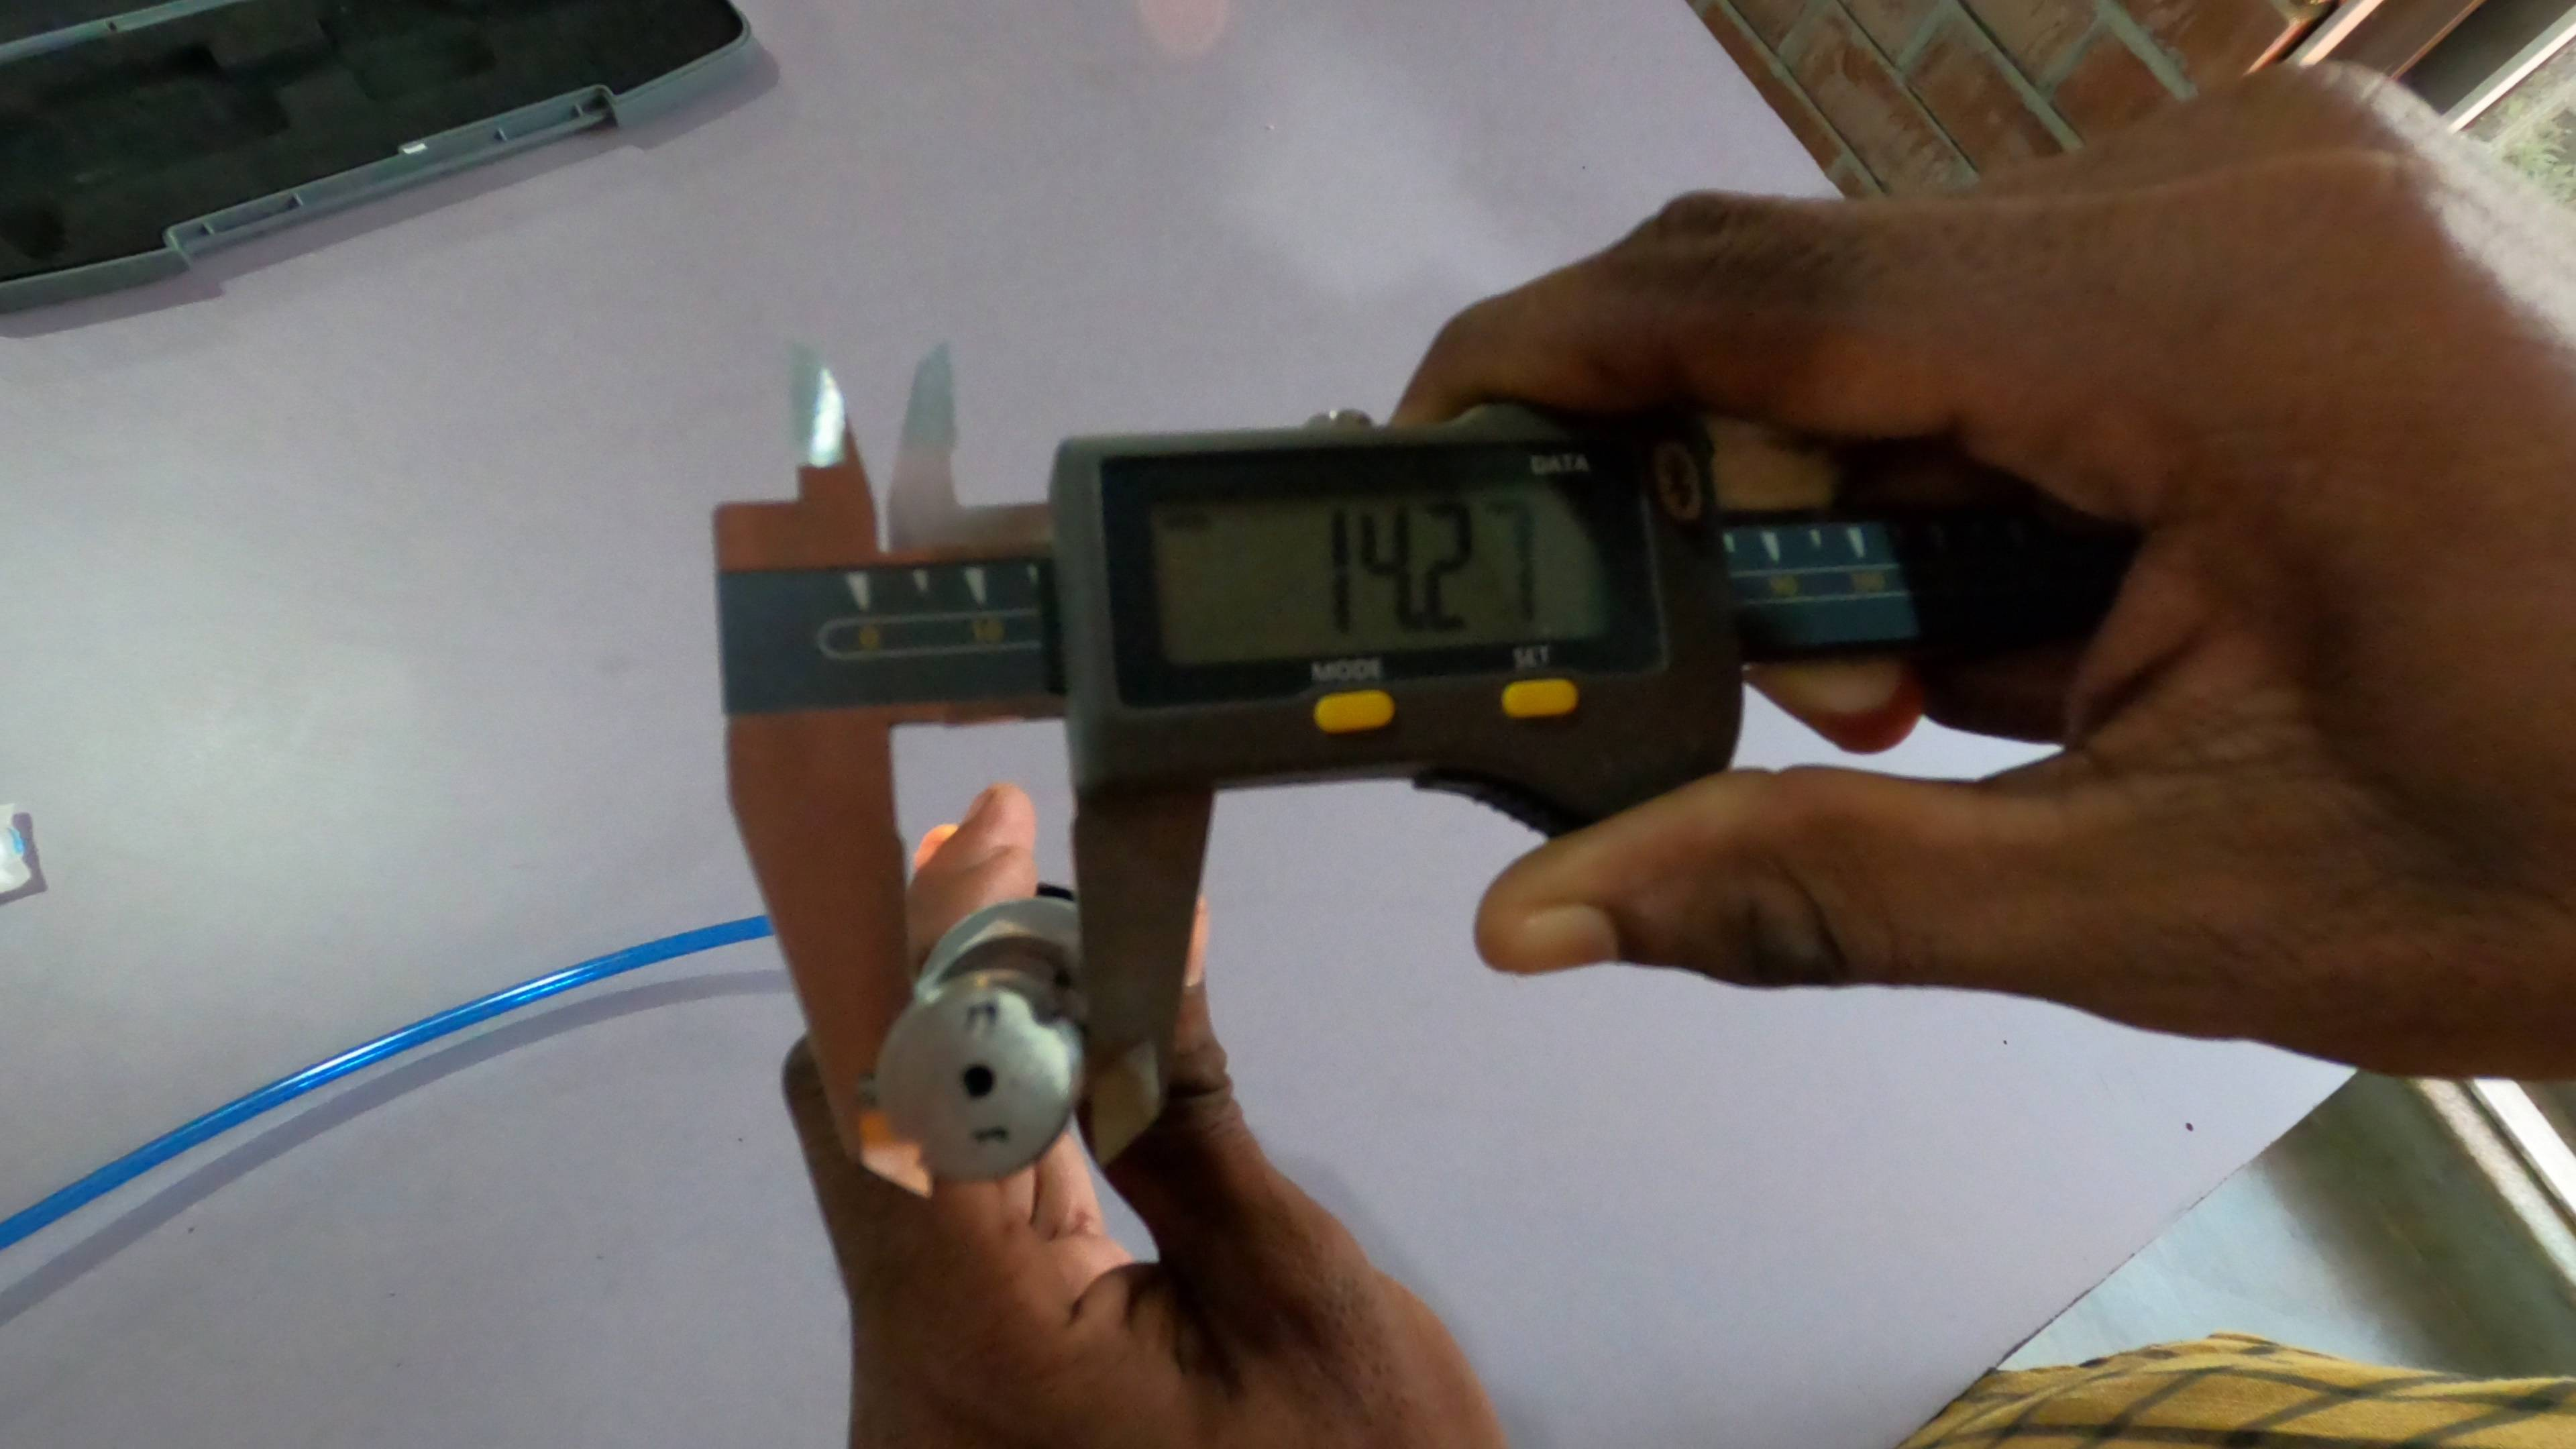vernier_caliper: (711, 331, 2116, 1196)
